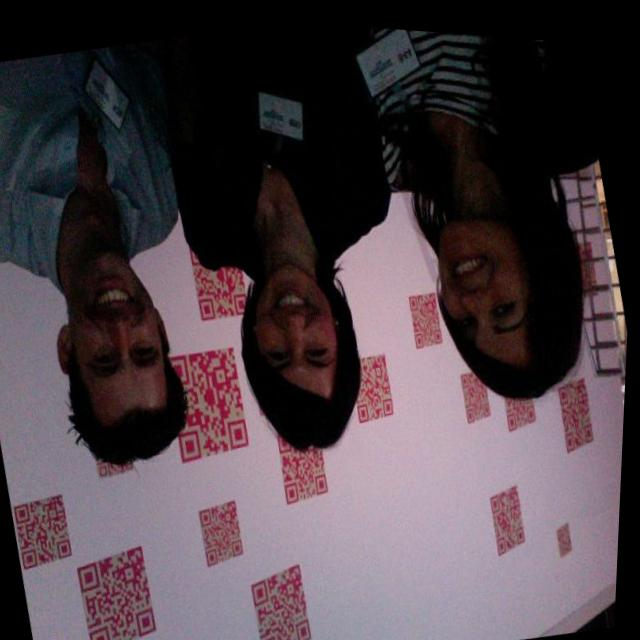qrcode: (165, 340, 259, 464), (77, 540, 168, 640), (252, 556, 324, 640), (190, 235, 255, 321), (15, 491, 81, 573), (277, 419, 337, 501), (350, 346, 401, 419), (201, 495, 252, 565), (557, 367, 602, 445), (490, 474, 536, 550), (409, 284, 447, 343), (461, 363, 497, 418), (507, 384, 541, 425), (101, 451, 139, 478), (559, 513, 579, 550)
